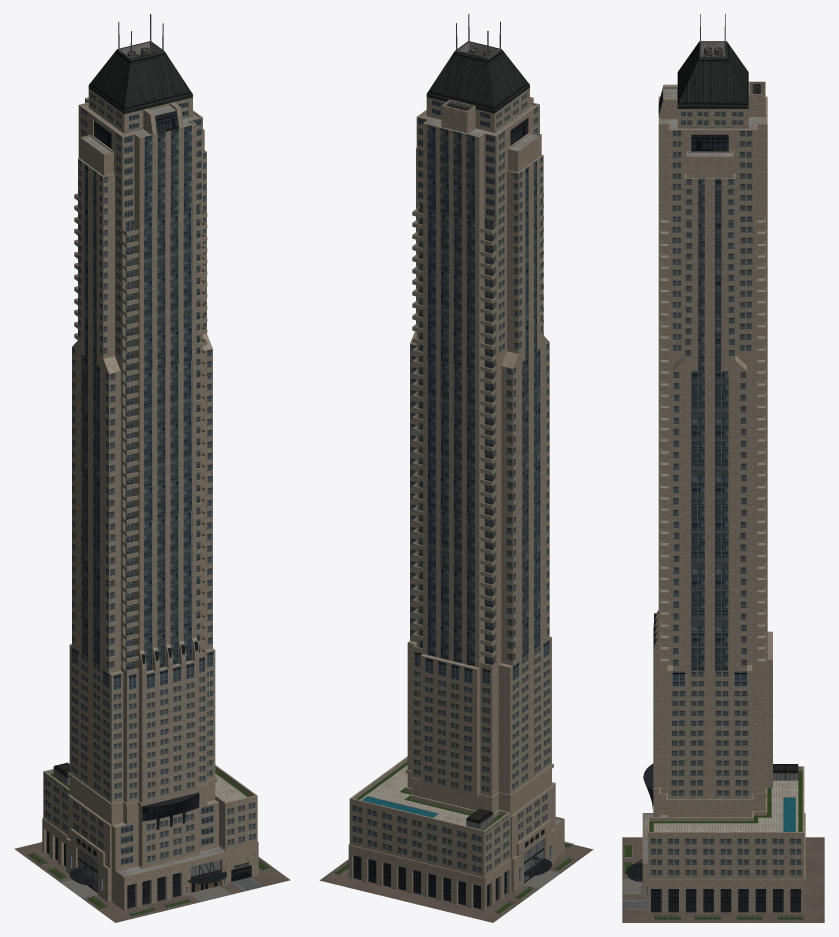
The model's file is park_tower_chicago.glb.
3 views of the same model, side by side, from view 1: azimuth 30°, elevation 25°; view 2: azimuth 150°, elevation 25°; view 3: azimuth 270°, elevation 25° (orthographic).
Parts seen in each view (by area): view 1: hirise13; view 2: hirise13; view 3: hirise13.
Part boxes in pixels (x1=…): hirise13: x1=14, y1=14, x2=290, y2=922; hirise13: x1=319, y1=14, x2=593, y2=922; hirise13: x1=622, y1=14, x2=824, y2=922.
Size of the model in its own units: 5400 by 25023 by 5400.
Materials: 1 (1 with a texture image).
